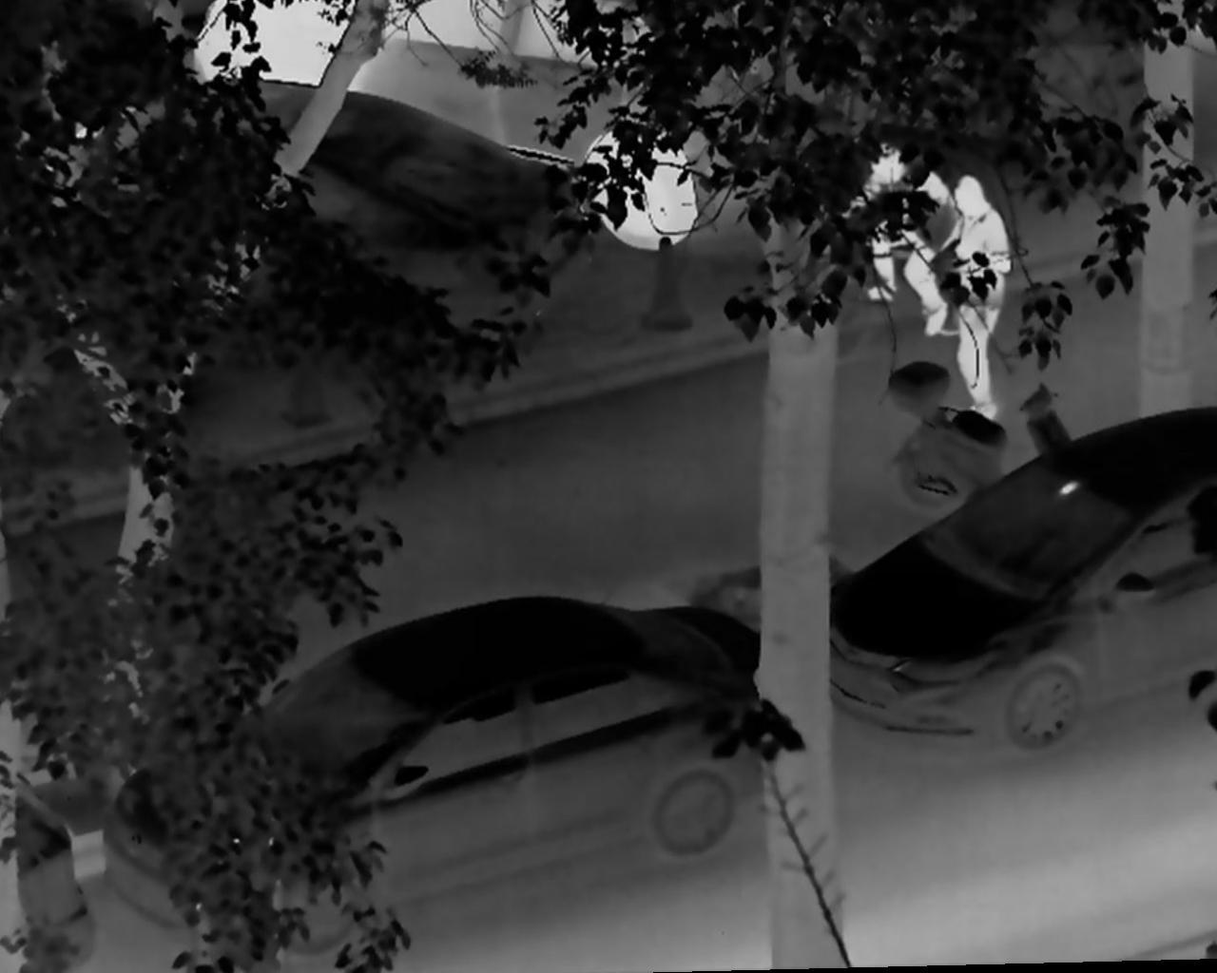person: (842, 129, 959, 348), (936, 168, 1010, 432)
